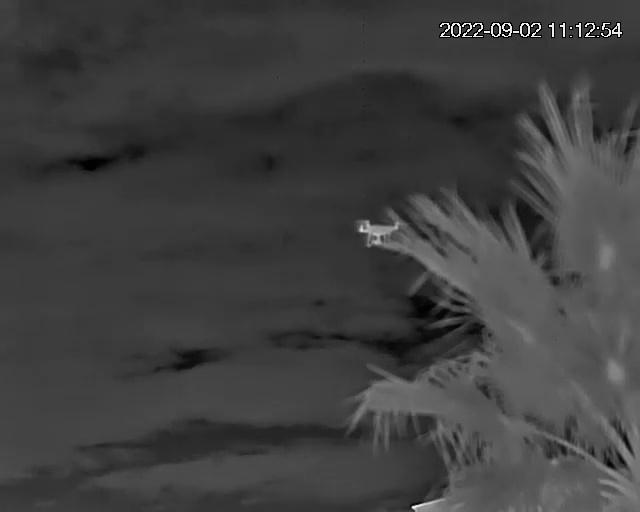DJI-Phantom: (358, 217, 402, 250)
